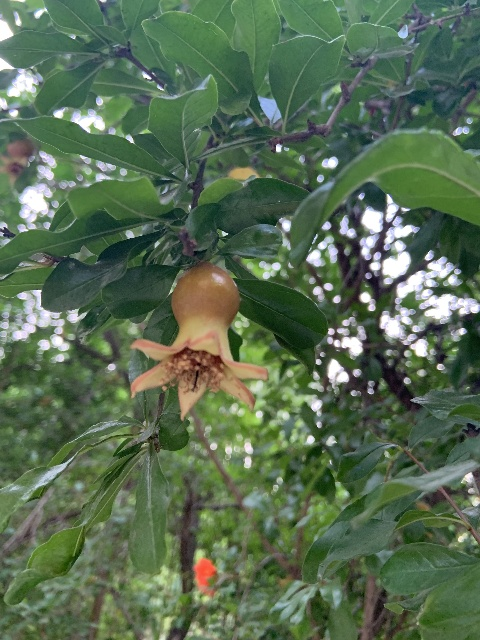early-fruit: (128, 261, 268, 421), (0, 140, 33, 185)
flower: (192, 557, 216, 586)
